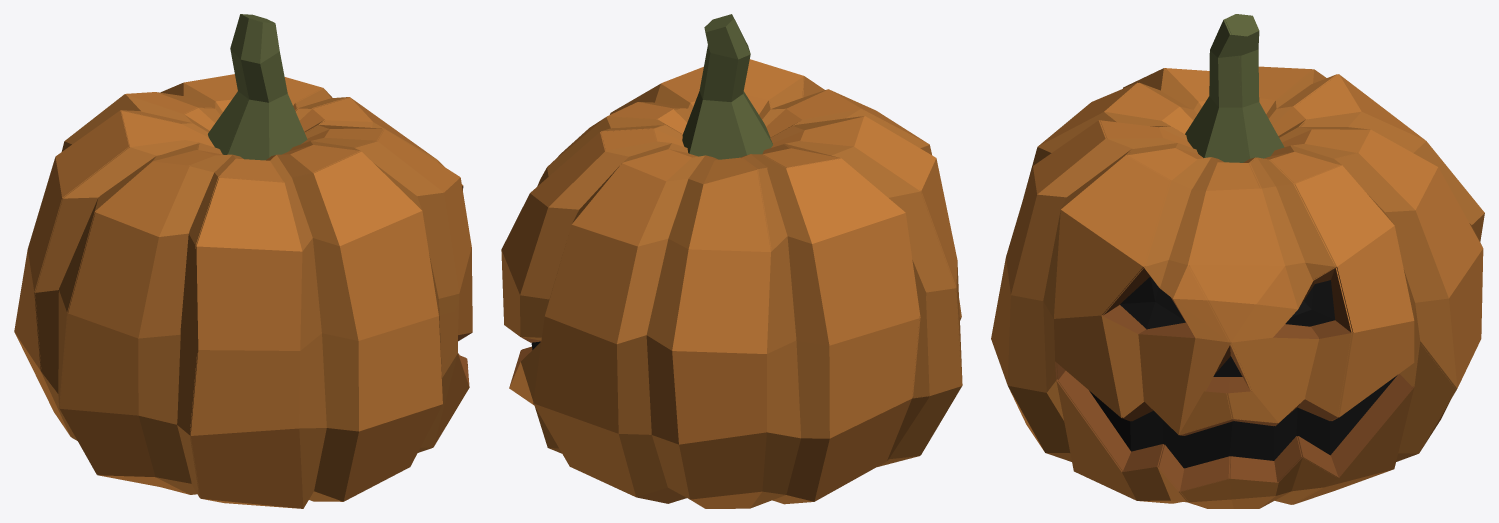
File: Pumpkins.glb
3 renders of one model, left to right at view 1: azimuth 30°, elevation 25°; view 2: azimuth 150°, elevation 25°; view 3: azimuth 270°, elevation 25°, orthographic. The views are drawn at different scales.
Visible parts, largest first — view 1: SM_Prop_Pumpkin_Lanturn_02, SM_Prop_Pumpkin_Lanturn_01; view 2: SM_Prop_Pumpkin_Lanturn_01, SM_Prop_Pumpkin_Lanturn_02; view 3: SM_Prop_Pumpkin_Lanturn_02, SM_Prop_Pumpkin_Lanturn_01.
Boxes of the visible parts, x1,y1,x2,y2 form: SM_Prop_Pumpkin_Lanturn_02: (35,18,472,508); SM_Prop_Pumpkin_Lanturn_01: (14,14,465,497); SM_Prop_Pumpkin_Lanturn_01: (501,15,961,508); SM_Prop_Pumpkin_Lanturn_02: (522,14,962,460); SM_Prop_Pumpkin_Lanturn_02: (991,14,1455,508); SM_Prop_Pumpkin_Lanturn_01: (1056,14,1484,508).
Size of the model in its own units: 0.5039 by 0.5163 by 0.5182.
1 material, 1 textured.
